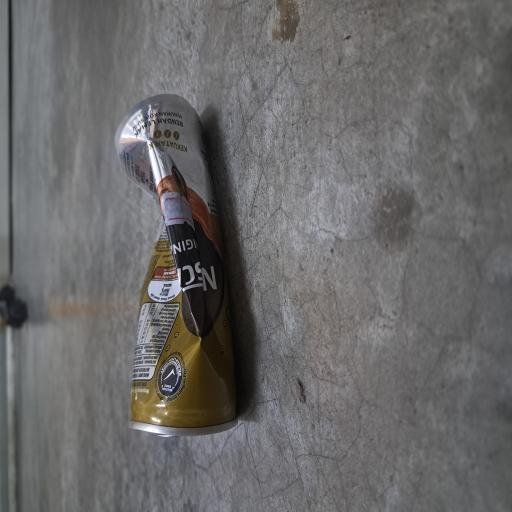can: (54, 148, 314, 318)
